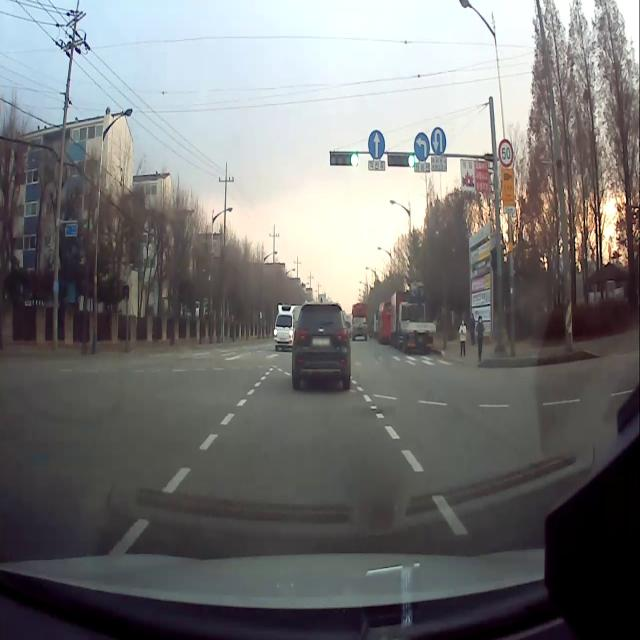Green Light: (349, 149, 360, 167), (406, 152, 416, 168)
